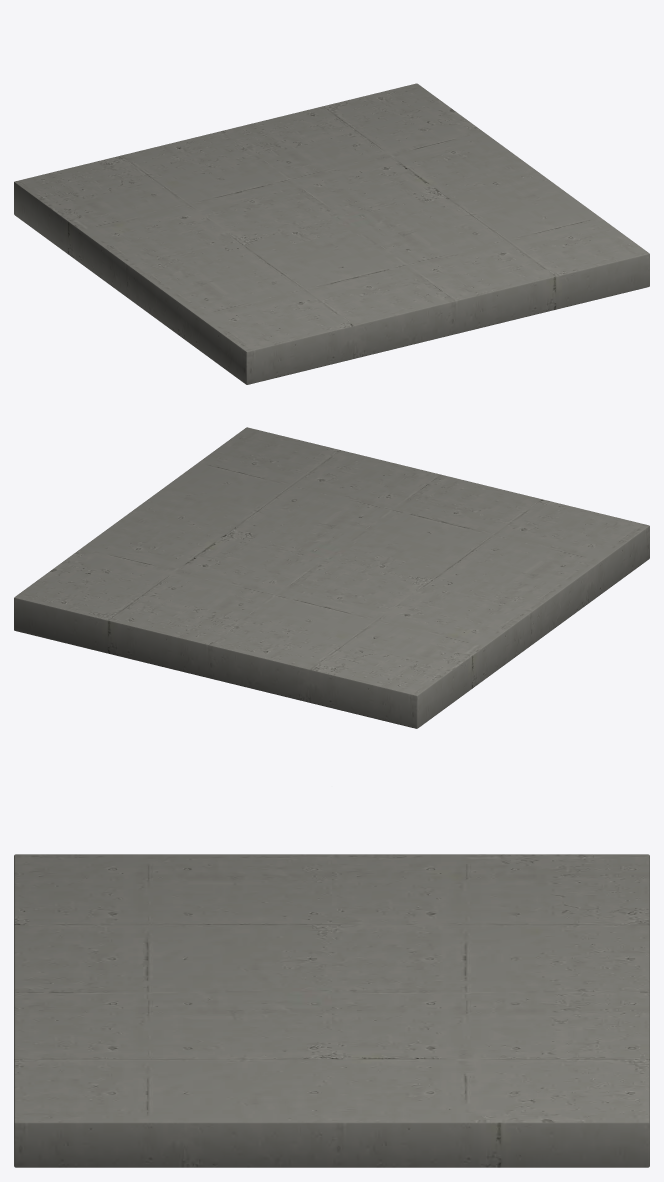
The model's file is IMP-PRT-002_anim.glb.
3 views of the same model, one above another, from view 1: azimuth 30°, elevation 25°; view 2: azimuth 150°, elevation 25°; view 3: azimuth 270°, elevation 25° (orthographic). The views are drawn at different scales.
Parts seen in each view (by area): view 1: IMP-PRT-002_anim0; view 2: IMP-PRT-002_anim0; view 3: IMP-PRT-002_anim0.
Part boxes in pixels (x1,y1,x2,y2): IMP-PRT-002_anim0: (14,83,649,384); IMP-PRT-002_anim0: (14,427,649,728); IMP-PRT-002_anim0: (14,854,649,1167).
Bounding box in the file's own units: 1 × 0.4801 × 1.
2 materials, 1 textured.
